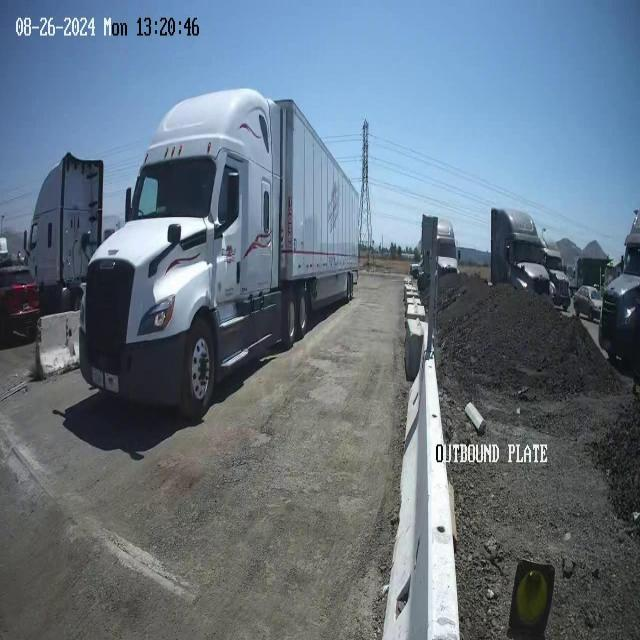TRUCK_CONTAINER: (78, 86, 360, 422)
